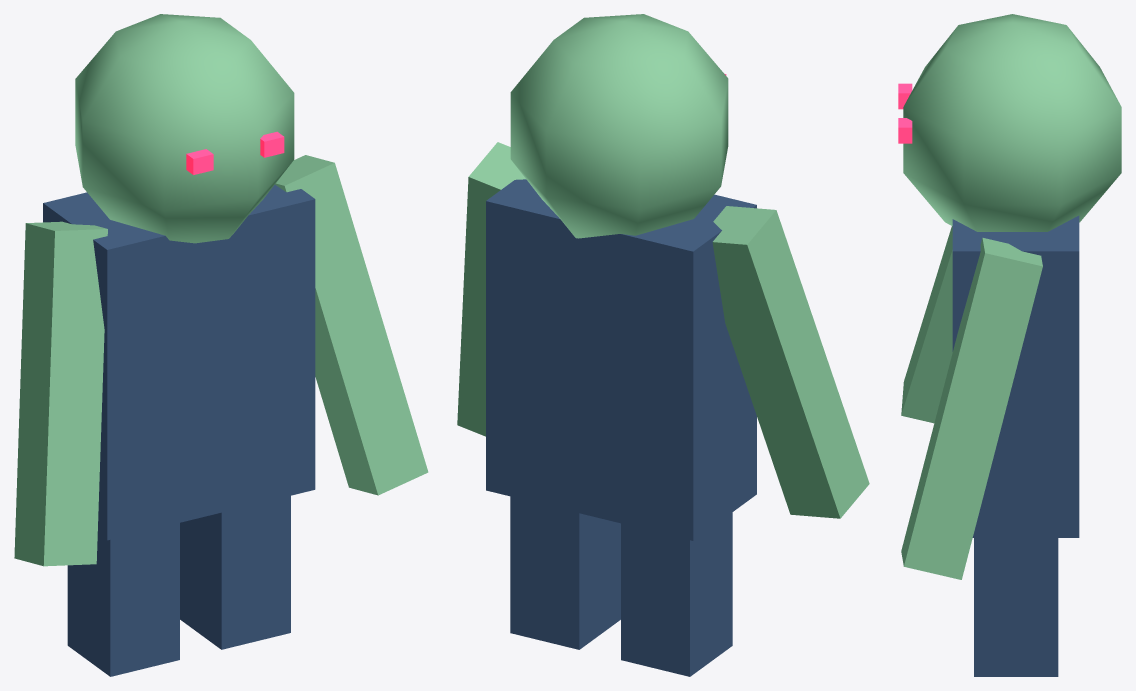
File: walker.glb
3 views of the same model, side by side, from view 1: azimuth 30°, elevation 25°; view 2: azimuth 150°, elevation 25°; view 3: azimuth 270°, elevation 25° (orthographic).
Parts seen in each view (by area): view 1: body, head, arm_l, arm_r, leg_r, leg_l; view 2: body, head, arm_l, leg_l, leg_r, arm_r; view 3: head, body, arm_r, leg_r, arm_l, eye_r.
Part boxes in pixels (x1=…): body: x1=43, y1=185, x2=315, y2=540; head: x1=75, y1=14, x2=294, y2=243; arm_l: x1=14, y1=221, x2=107, y2=566; arm_r: x1=275, y1=155, x2=428, y2=495; leg_r: x1=180, y1=495, x2=290, y2=649; leg_l: x1=67, y1=523, x2=179, y2=676; body: x1=486, y1=179, x2=756, y2=540; head: x1=510, y1=14, x2=728, y2=238; arm_l: x1=712, y1=206, x2=869, y2=518; leg_l: x1=621, y1=512, x2=732, y2=676; leg_r: x1=510, y1=496, x2=620, y2=649; arm_r: x1=457, y1=142, x2=525, y2=436; head: x1=903, y1=14, x2=1121, y2=231; body: x1=952, y1=215, x2=1079, y2=537; arm_r: x1=901, y1=237, x2=1042, y2=579; leg_r: x1=974, y1=538, x2=1058, y2=676; arm_l: x1=901, y1=226, x2=952, y2=423; eye_r: x1=898, y1=118, x2=912, y2=143.
Bounding box in the file's own units: 2.49 × 3.83 × 1.27.
